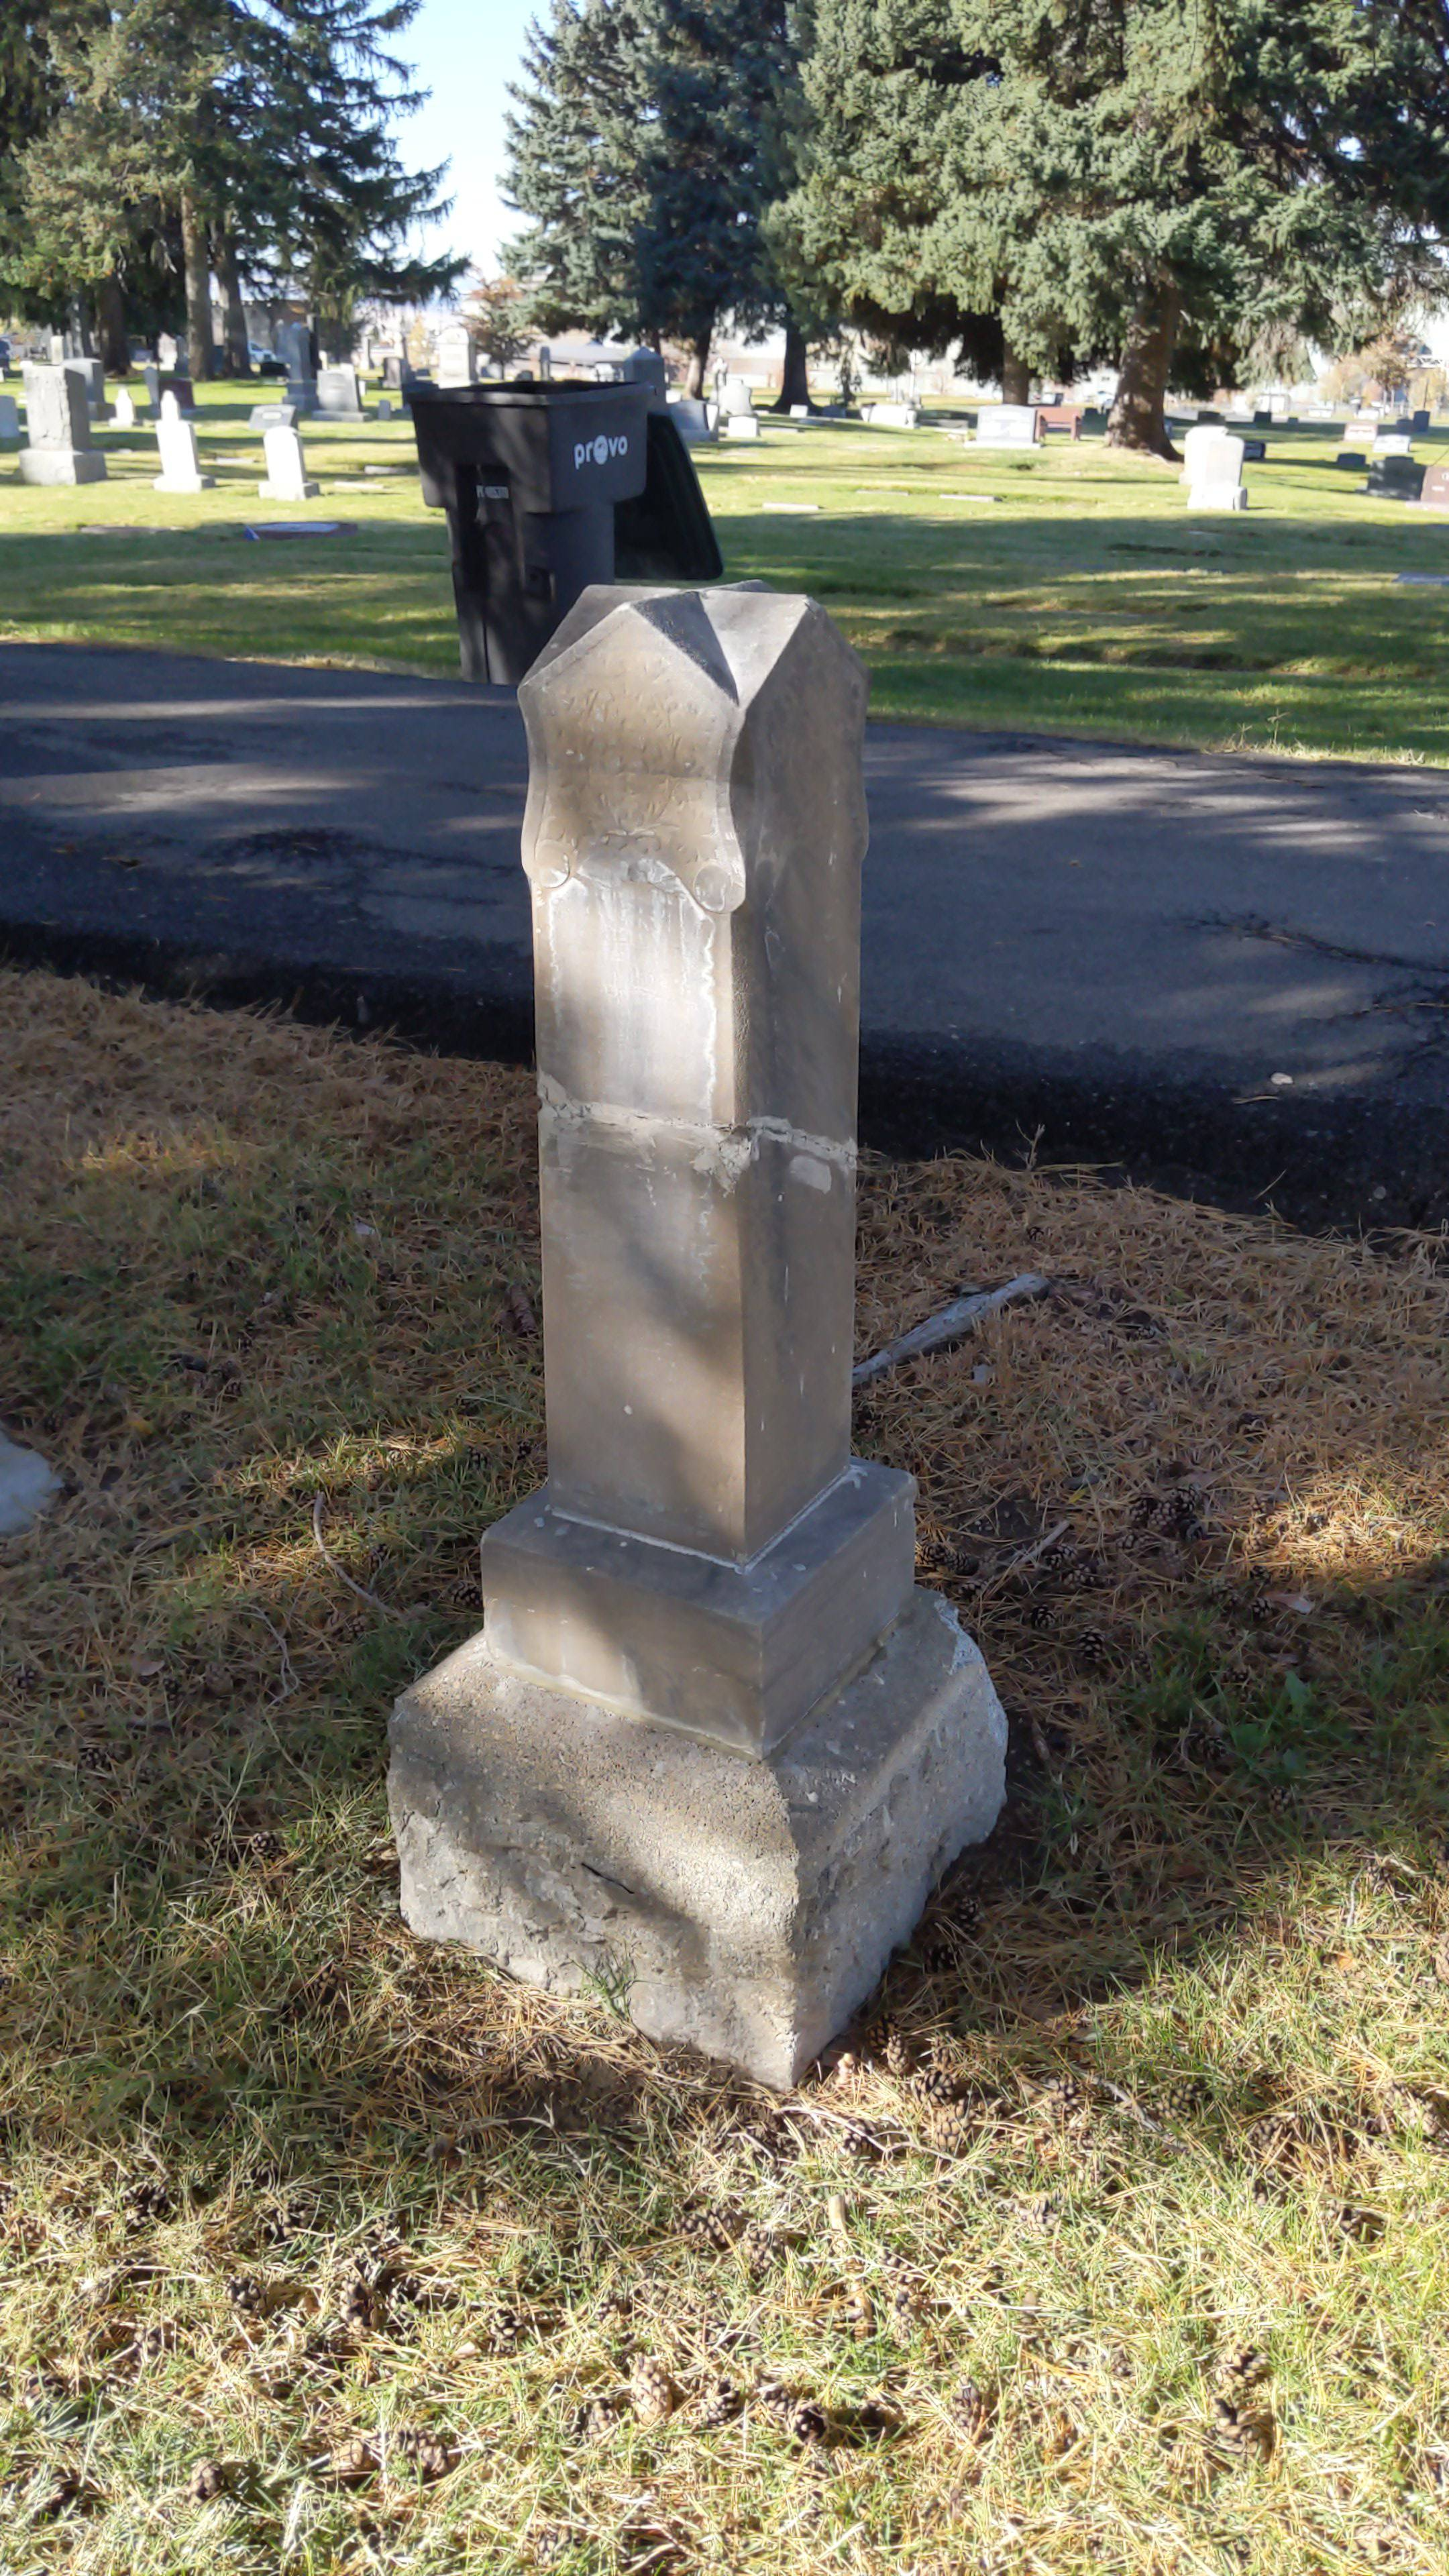obelisk: (492, 594, 911, 1727)
